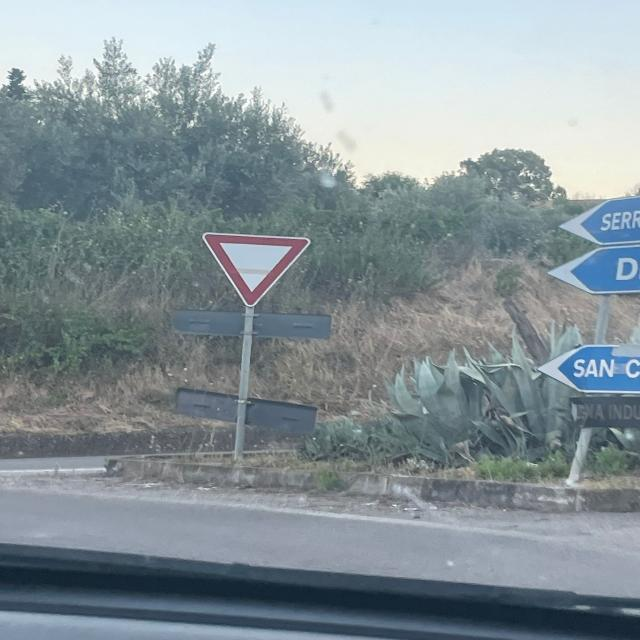prio_give_way: (202, 231, 312, 308)
